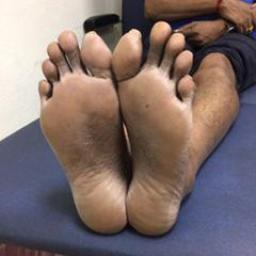Plantar View -Both Feet-: (26, 17, 207, 250)
